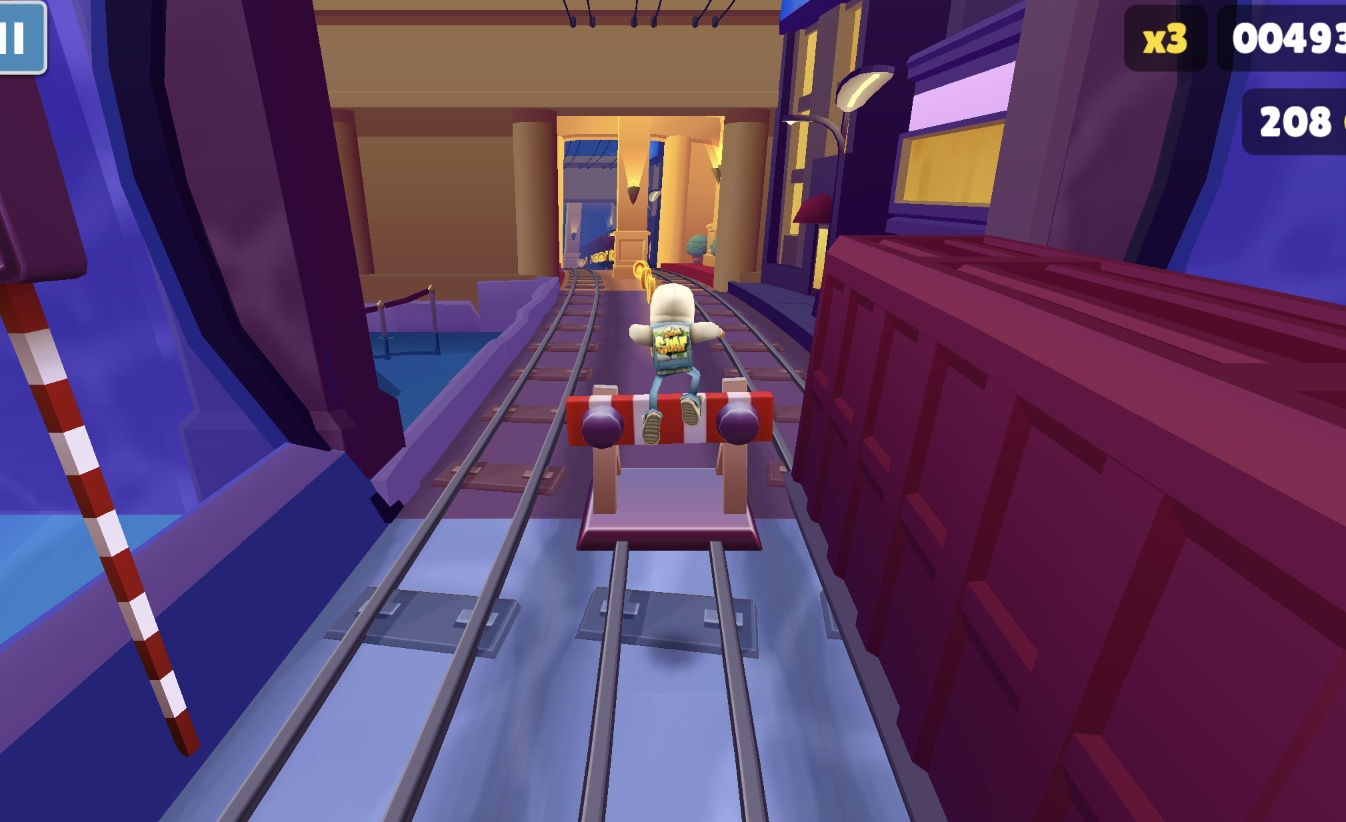ground_barrier: (564, 387, 782, 554)
pillar: (618, 120, 660, 273)
train: (785, 224, 1346, 822)
